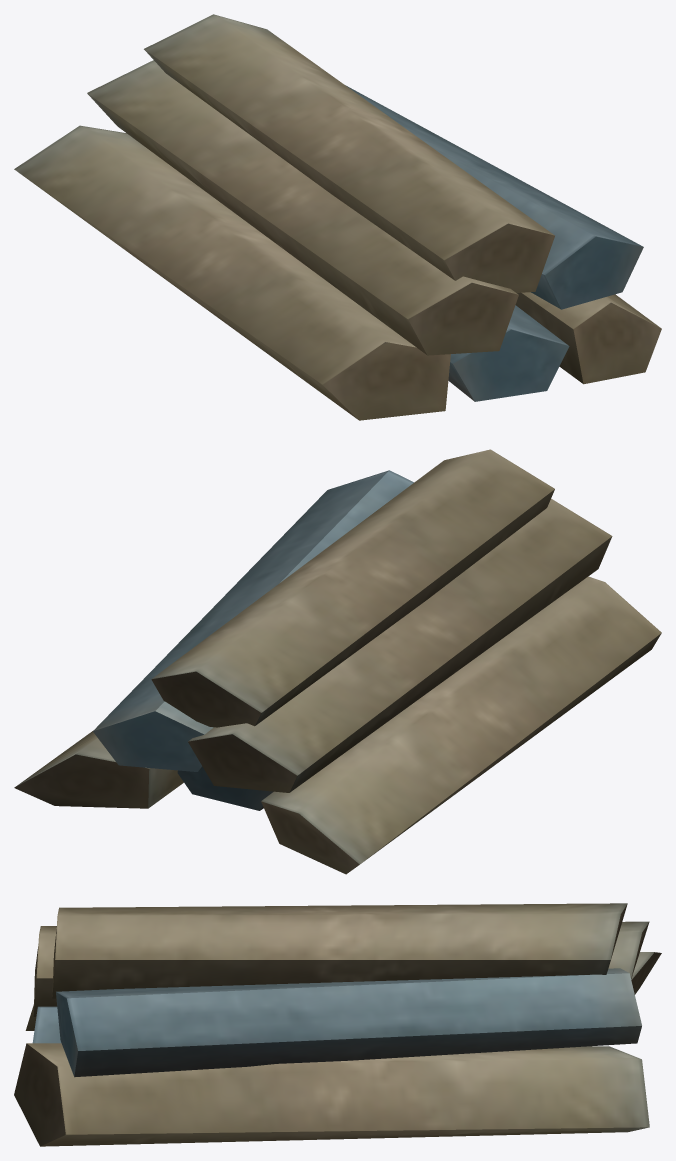
File: Map_11_cloth02.FBX
3 views of the same model, one above another, from view 1: azimuth 30°, elevation 25°; view 2: azimuth 150°, elevation 25°; view 3: azimuth 270°, elevation 25° (orthographic). The views are drawn at different scales.
Parts seen in each view (by area): view 1: Map_11_cloth02; view 2: Map_11_cloth02; view 3: Map_11_cloth02.
Part boxes in pixels (left/top/right/bottom): Map_11_cloth02: left=14, top=14, right=661, bottom=420; Map_11_cloth02: left=14, top=449, right=661, bottom=874; Map_11_cloth02: left=14, top=903, right=661, bottom=1146.
Size of the model in its own units: 123 by 207 by 59.52.
